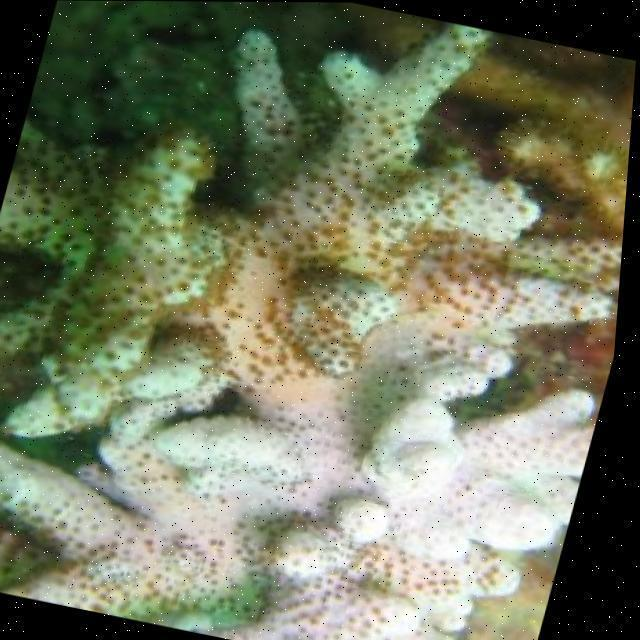Bleached Coral: (22, 24, 562, 599)
